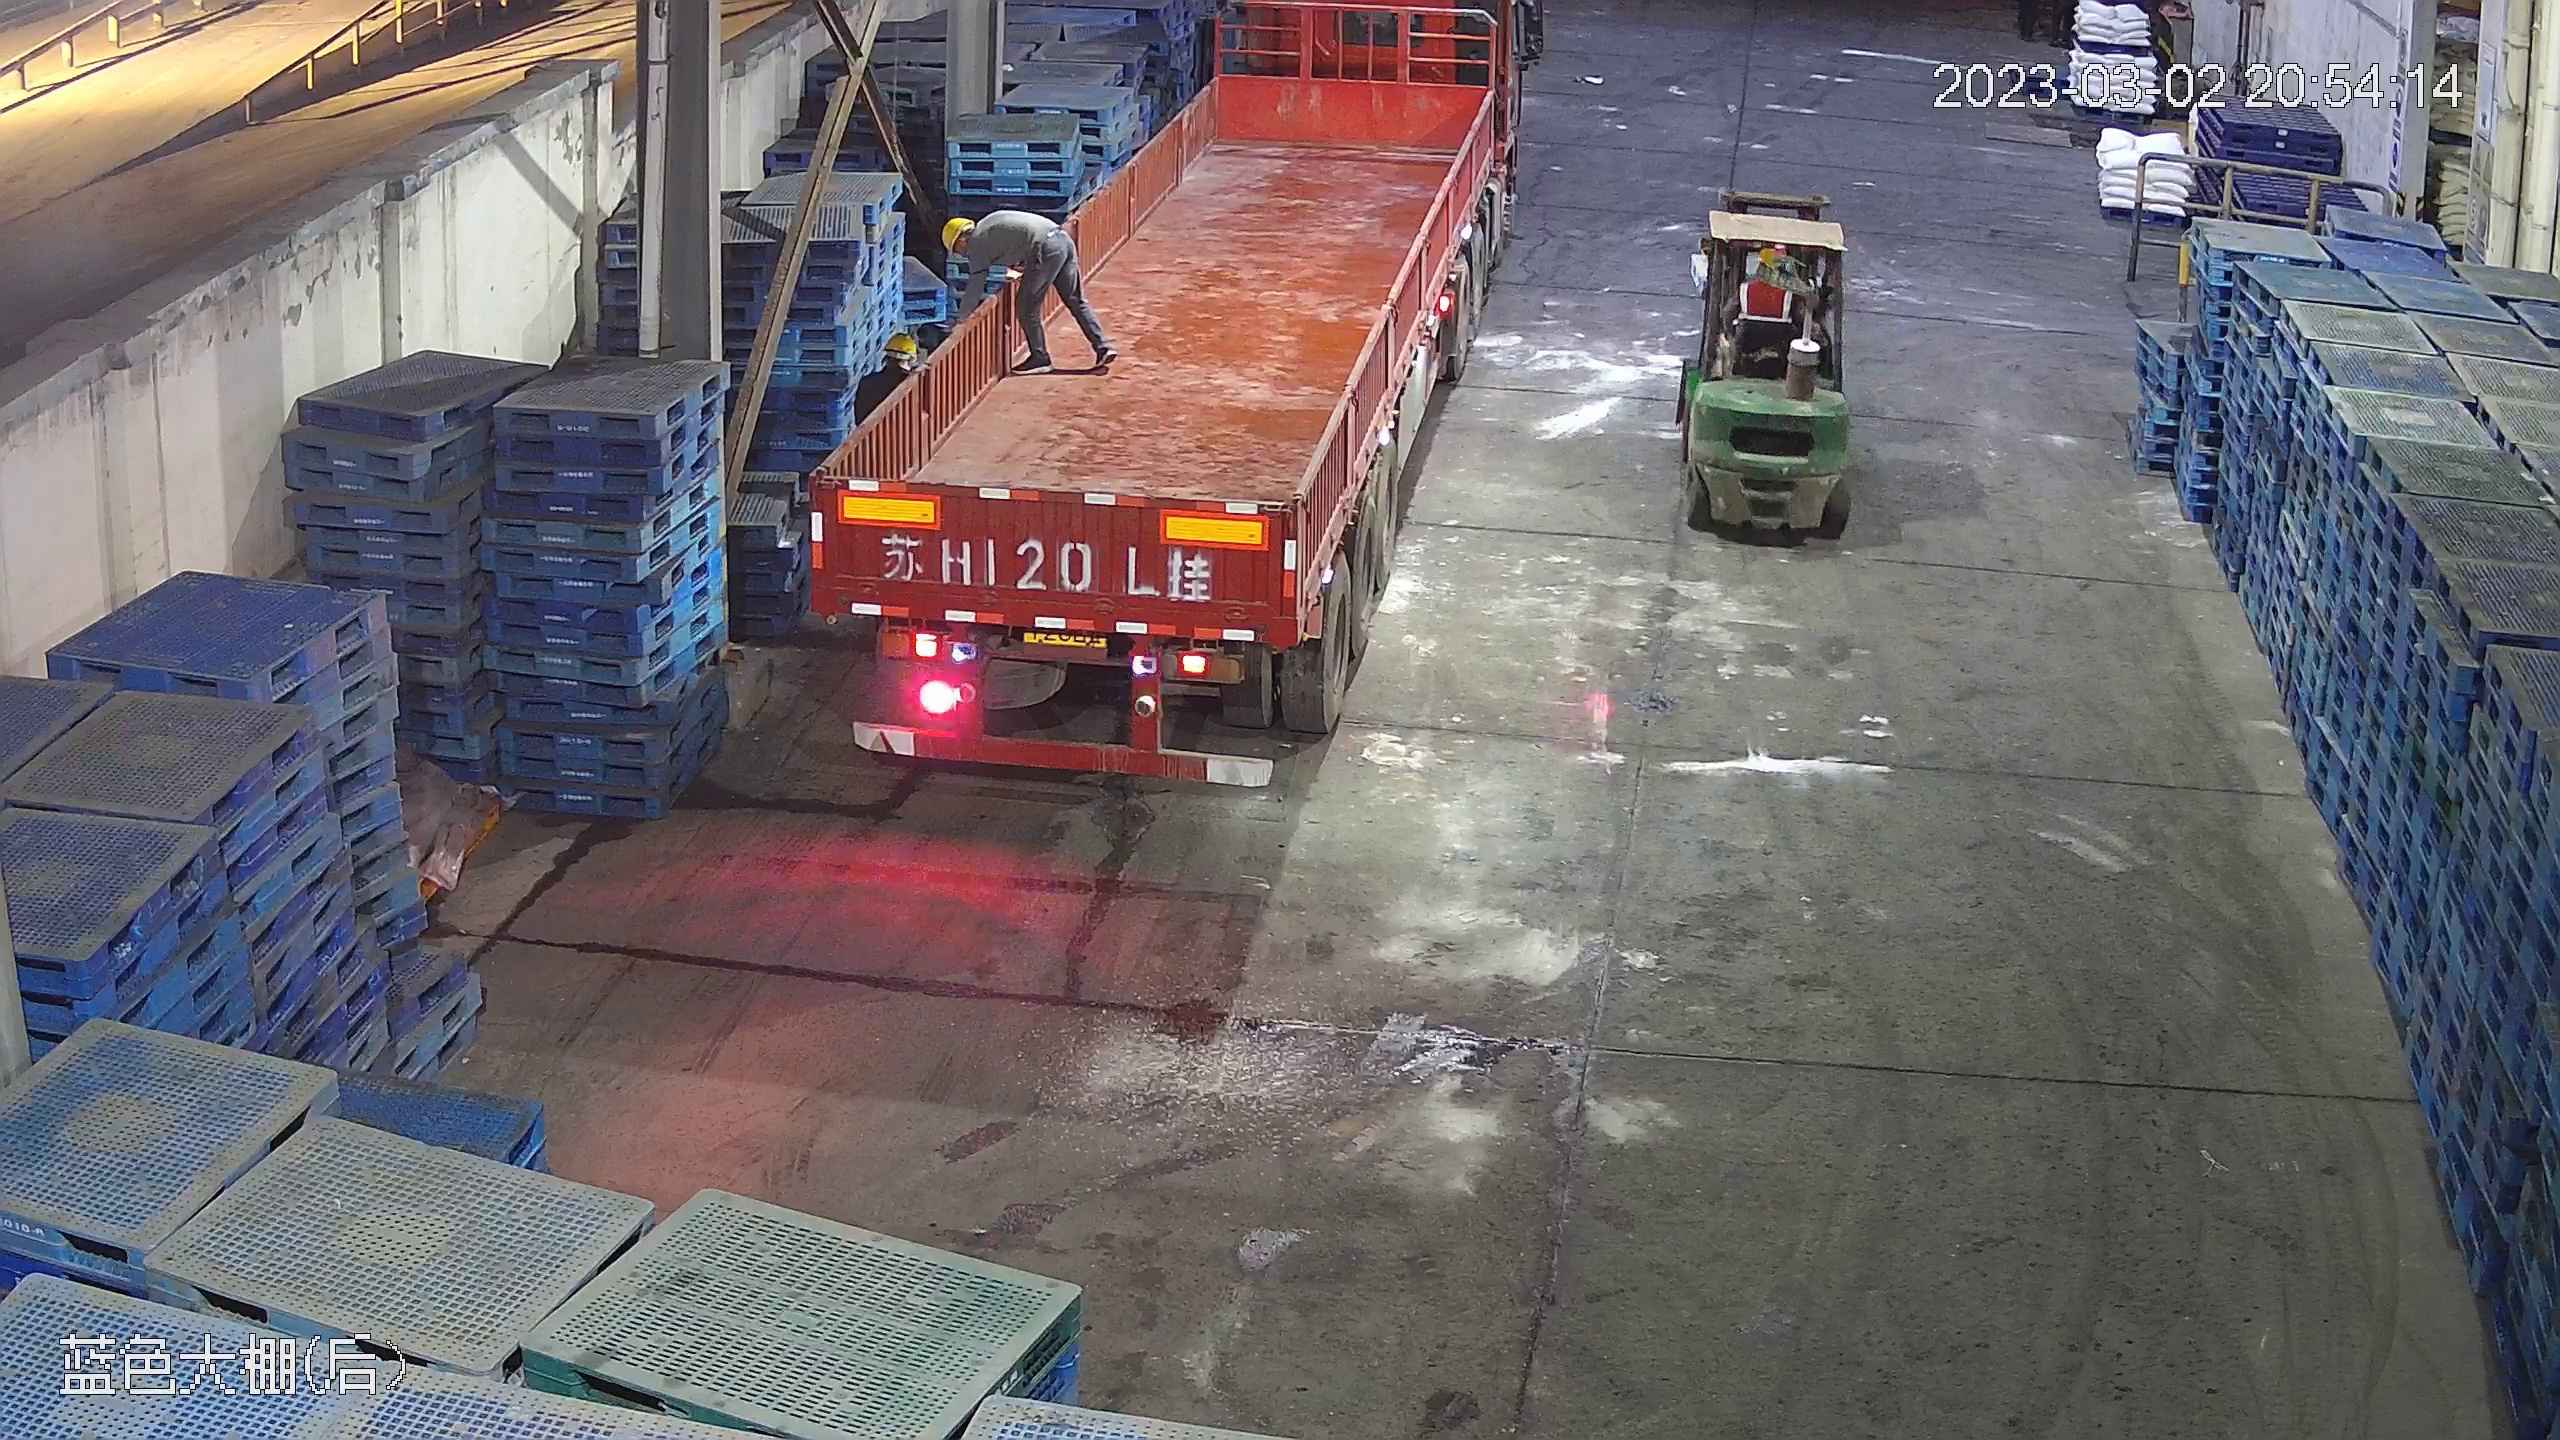head: (938, 213, 1021, 280)
helmet: (941, 215, 974, 251), (884, 330, 921, 358)
people: (926, 209, 1112, 374)
truck: (801, 4, 1525, 791)
